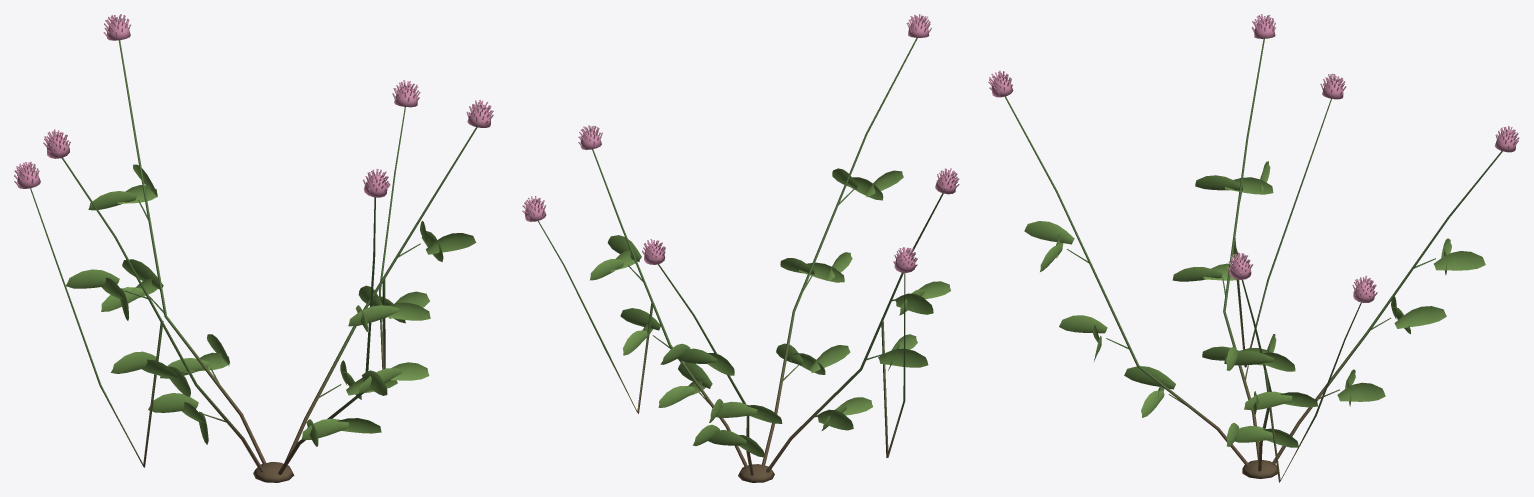
File: RedClover.glb
The picture shows the model from 3 angles, left to right: view 1: azimuth 30°, elevation 25°; view 2: azimuth 150°, elevation 25°; view 3: azimuth 270°, elevation 25°; orthographic projection. The views are drawn at different scales.
Visible parts, largest first — view 1: Plant; view 2: Plant; view 3: Plant.
Boxes of the visible parts, <box> form: Plant: <box>14,14,493,482</box>; Plant: <box>522,14,959,482</box>; Plant: <box>988,14,1519,482</box>.
Size of the model in its own units: 0.3856 by 0.3555 by 0.4475.
